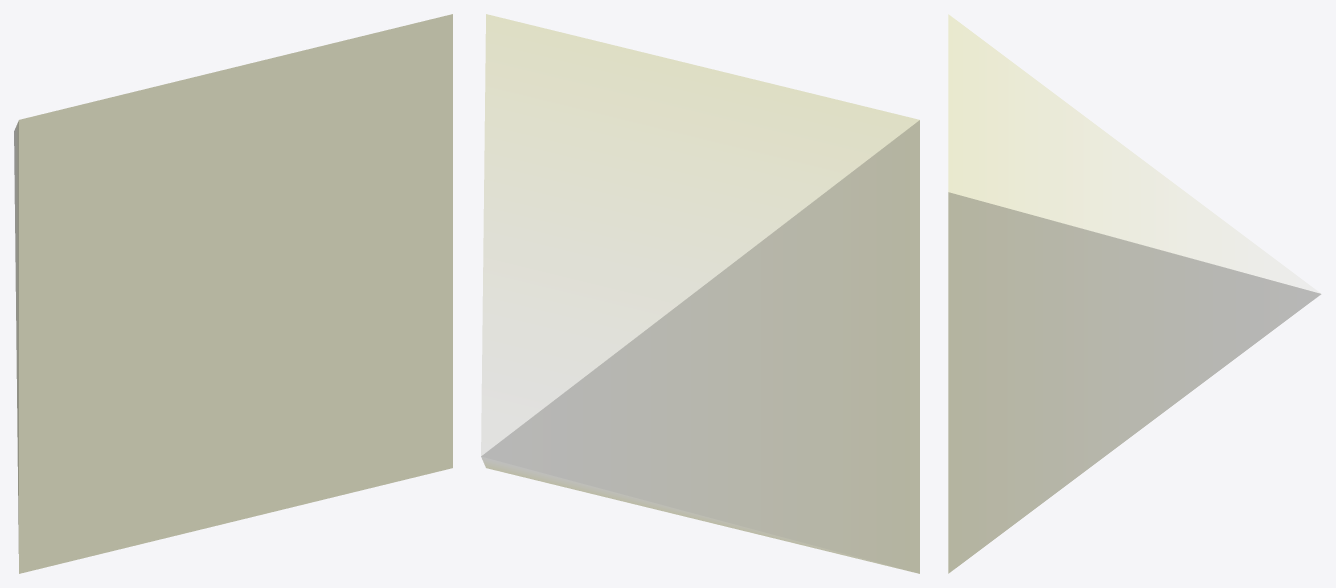
3 views of the same model, side by side, from view 1: azimuth 30°, elevation 25°; view 2: azimuth 150°, elevation 25°; view 3: azimuth 270°, elevation 25° (orthographic). The views are drawn at different scales.
Visible parts, largest first — view 1: Cube.001; view 2: Cube.001; view 3: Cube.001.
Part boxes in pixels (x1,y1,x2,y2): Cube.001: (14, 14, 452, 573); Cube.001: (481, 14, 919, 573); Cube.001: (948, 14, 1321, 573).
Size of the model in its own units: 182 by 182 by 161.
